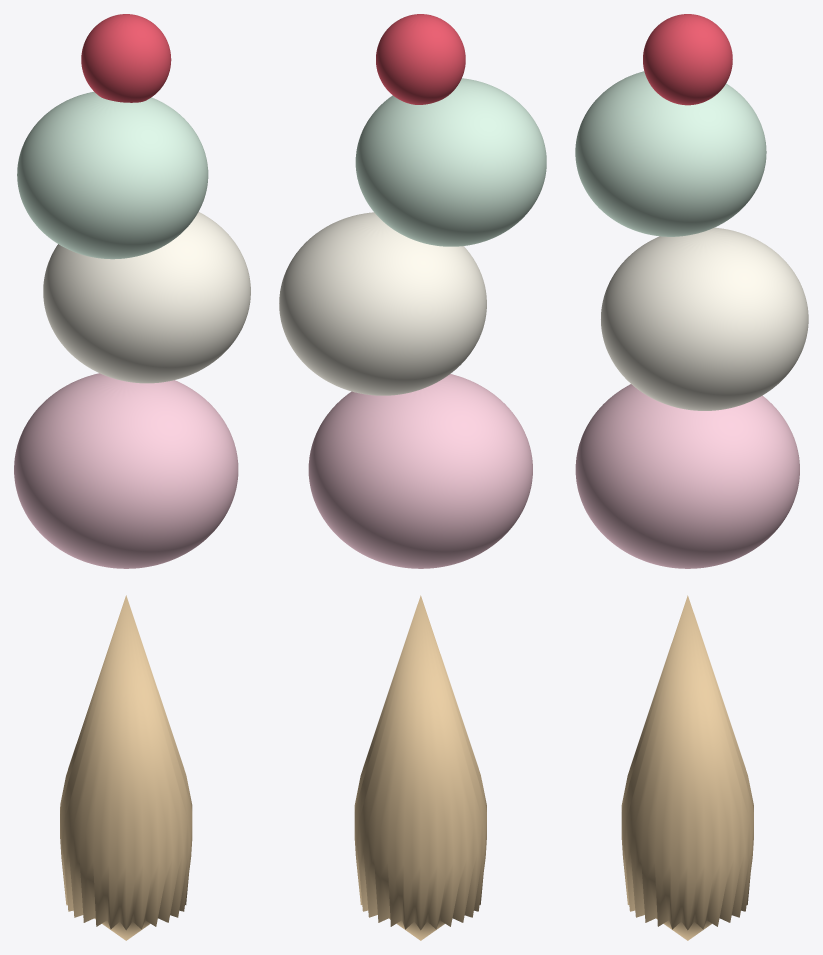
File: ice_cream_cone.glb
3 renders of one model, left to right at view 1: azimuth 30°, elevation 25°; view 2: azimuth 150°, elevation 25°; view 3: azimuth 270°, elevation 25°, orthographic.
Parts seen in each view (by area): view 1: Scoop_Strawberry, Cone_Waffle, Scoop_Mint, Scoop_Vanilla, Cherry_Top; view 2: Scoop_Strawberry, Cone_Waffle, Scoop_Vanilla, Scoop_Mint, Cherry_Top; view 3: Scoop_Strawberry, Cone_Waffle, Scoop_Vanilla, Scoop_Mint, Cherry_Top.
Boxes of the visible parts, left/top/right/bottom form: Scoop_Strawberry: left=14, top=373, right=238, bottom=568; Cone_Waffle: left=60, top=595, right=192, bottom=940; Scoop_Mint: left=17, top=92, right=208, bottom=259; Scoop_Vanilla: left=43, top=212, right=250, bottom=383; Cherry_Top: left=81, top=14, right=171, bottom=102; Scoop_Strawberry: left=308, top=374, right=532, bottom=568; Cone_Waffle: left=354, top=595, right=486, bottom=940; Scoop_Vanilla: left=279, top=212, right=486, bottom=395; Scoop_Mint: left=355, top=78, right=546, bottom=246; Cherry_Top: left=376, top=14, right=465, bottom=104; Scoop_Strawberry: left=575, top=384, right=799, bottom=568; Cone_Waffle: left=621, top=595, right=753, bottom=940; Scoop_Vanilla: left=601, top=227, right=808, bottom=410; Scoop_Mint: left=575, top=71, right=766, bottom=236; Cherry_Top: left=643, top=14, right=732, bottom=105.
Bounding box in the file's own units: 0.0612 × 0.2409 × 0.0552.
